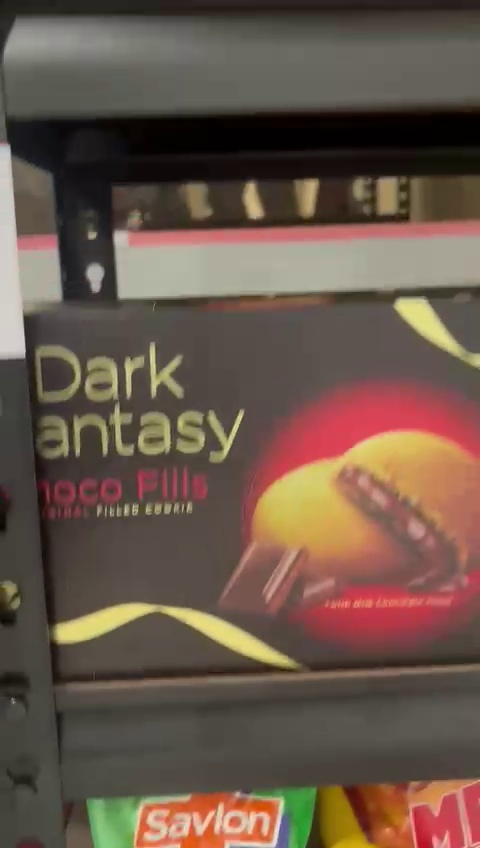Dark Fantasy: (24, 313, 480, 664)
